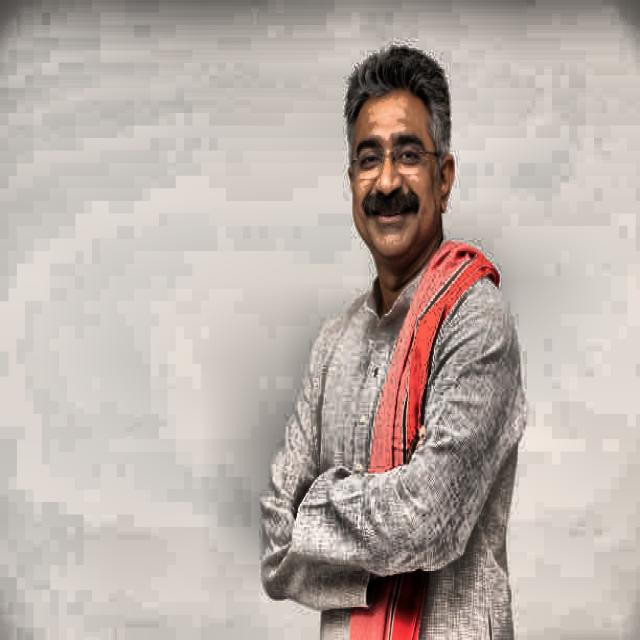Human: (213, 4, 533, 640)
